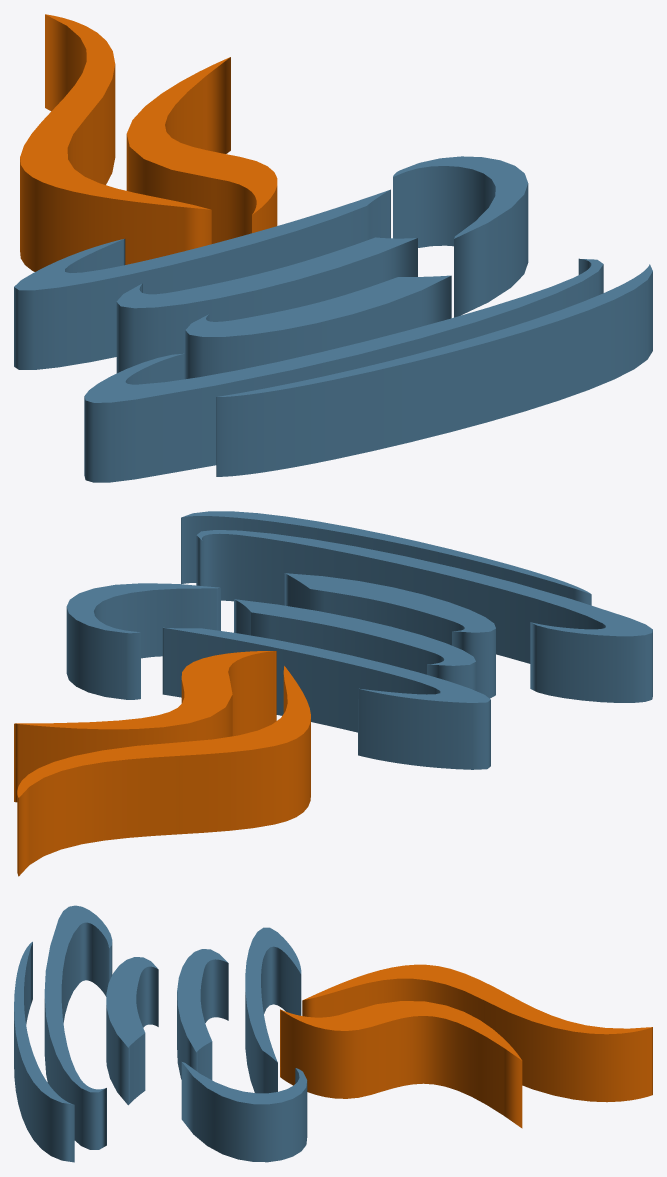
File: java.gltf
The picture shows the model from 3 angles, top to bottom: view 1: azimuth 30°, elevation 25°; view 2: azimuth 150°, elevation 25°; view 3: azimuth 270°, elevation 25°; orthographic projection. The views are drawn at different scales.
Visible parts, largest first — view 1: Curve, Curve.002; view 2: Curve, Curve.002; view 3: Curve, Curve.002.
Boxes of the visible parts, <box> form: Curve: <box>14,156,652,482</box>; Curve.002: <box>20,14,277,271</box>; Curve: <box>66,511,652,769</box>; Curve.002: <box>14,651,310,876</box>; Curve: <box>14,905,307,1162</box>; Curve.002: <box>280,964,652,1128</box>.
Bounding box in the file's own units: 1.47 × 0.233 × 1.99.
